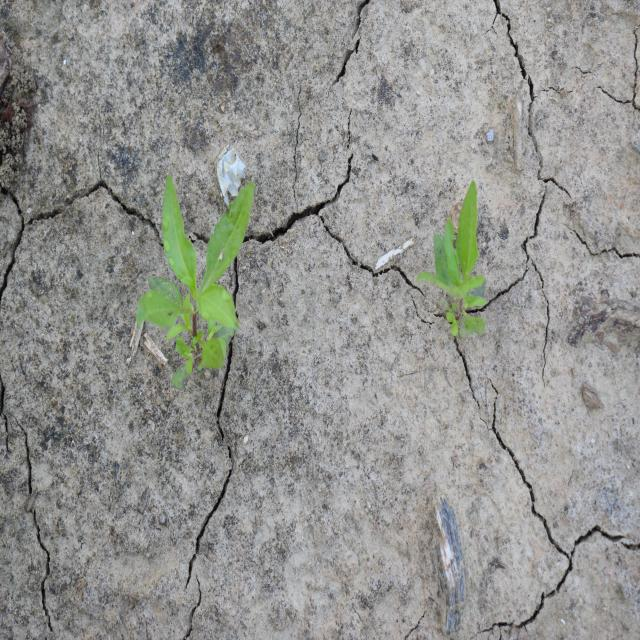Eclipta: (135, 172, 256, 392), (415, 178, 488, 340)
